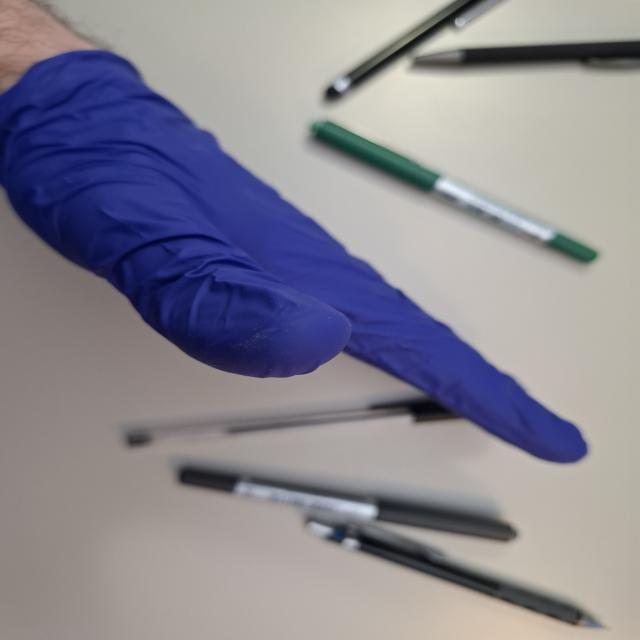glove_on: (1, 47, 592, 468)
